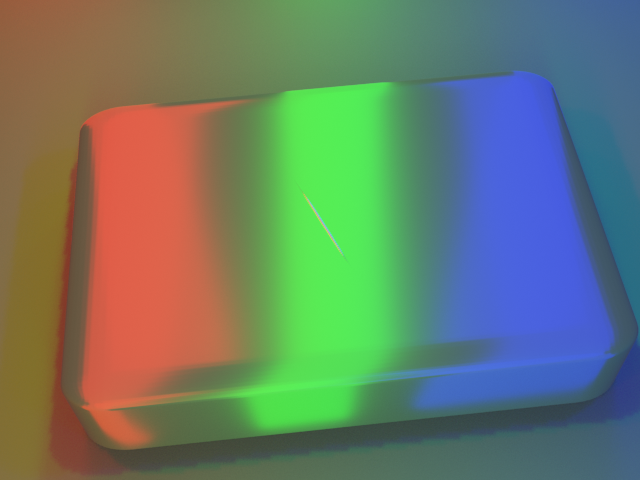scratch: (111, 113, 531, 352)
